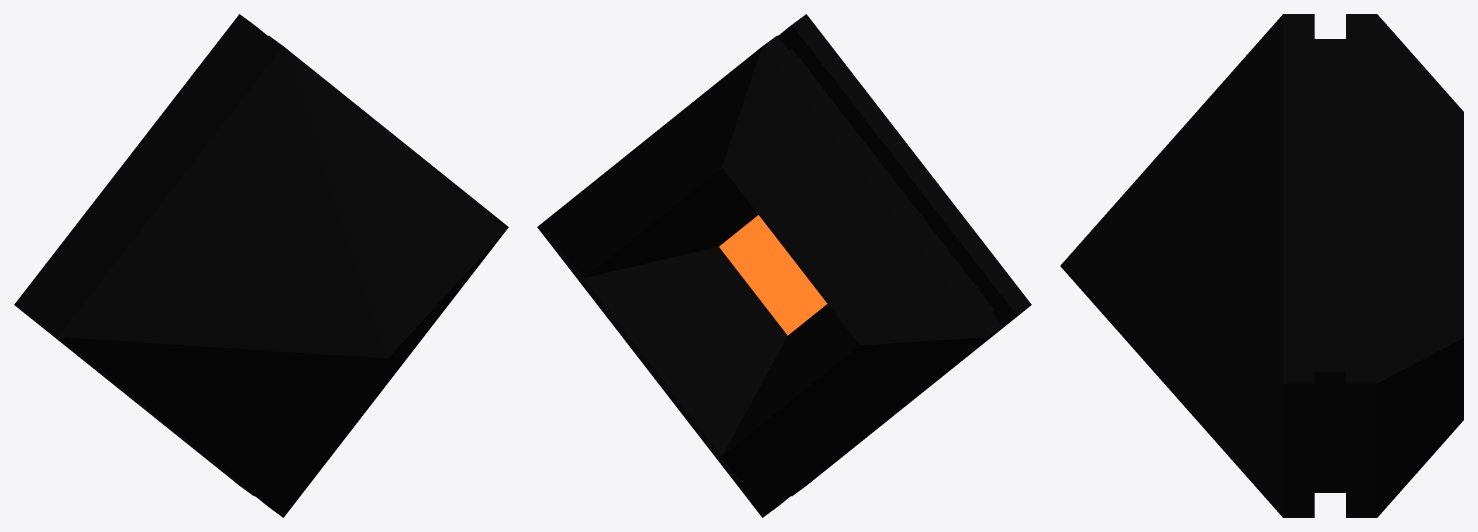
File: Orange_Bomb.glb
The picture shows the model from 3 angles, left to right: view 1: azimuth 30°, elevation 25°; view 2: azimuth 150°, elevation 25°; view 3: azimuth 270°, elevation 25°; orthographic projection. The views are drawn at different scales.
Visible parts, largest first — view 1: Cube.002; view 2: Cube.002; view 3: Cube.002.
Boxes of the visible parts, x1,y1,x2,y2 form: Cube.002: (14, 14, 508, 517); Cube.002: (537, 14, 1031, 517); Cube.002: (1060, 14, 1463, 517).
Bounding box in the file's own units: 2.83 × 2.83 × 2.05.
